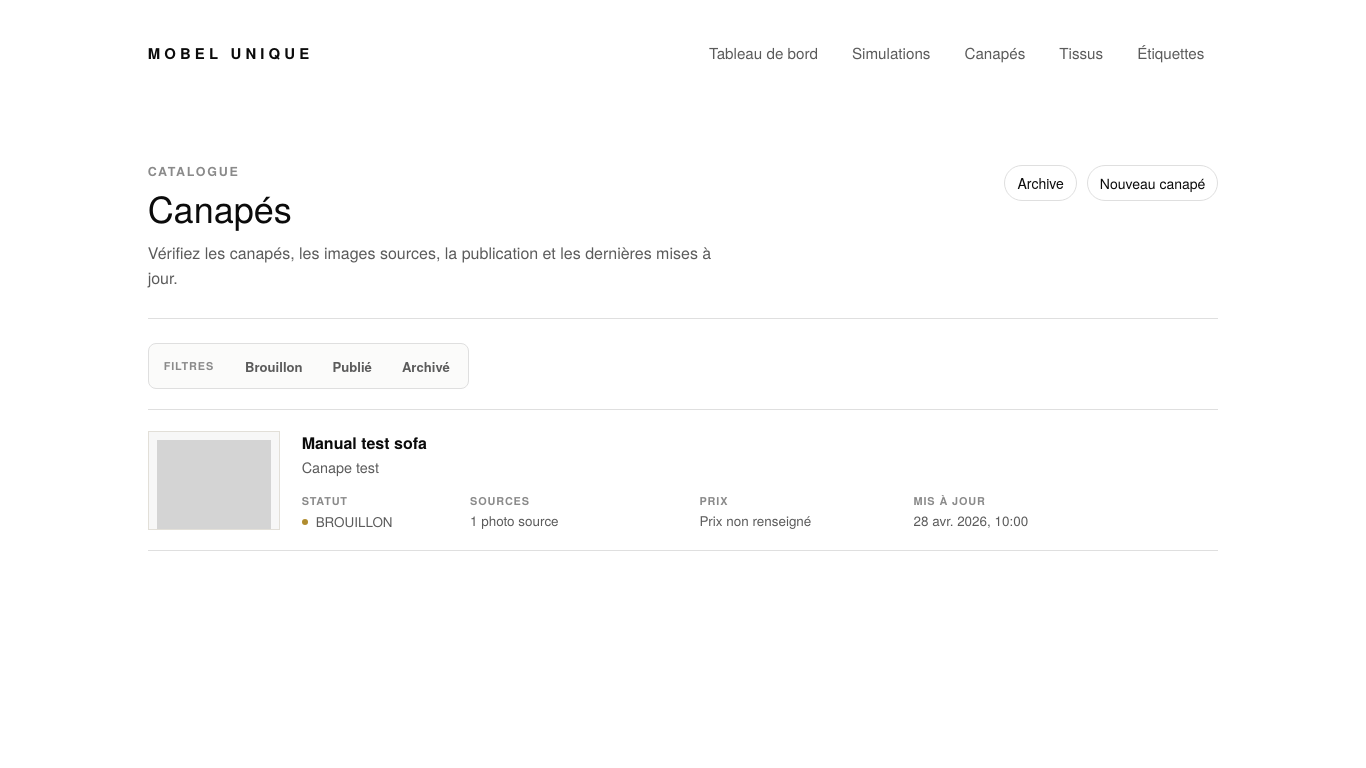
Test case: Admin catalog pages › hides archived sofas until the archive list toggle is enabled
Check: the heading "Canapés" is shown, box [148,184,292,234]
Check: the link with aria-label "Ouvrir Canape test" is shown, box [148,431,1028,531]
Click the button "Archive" at (1041, 183), box [1004,165,1077,201]
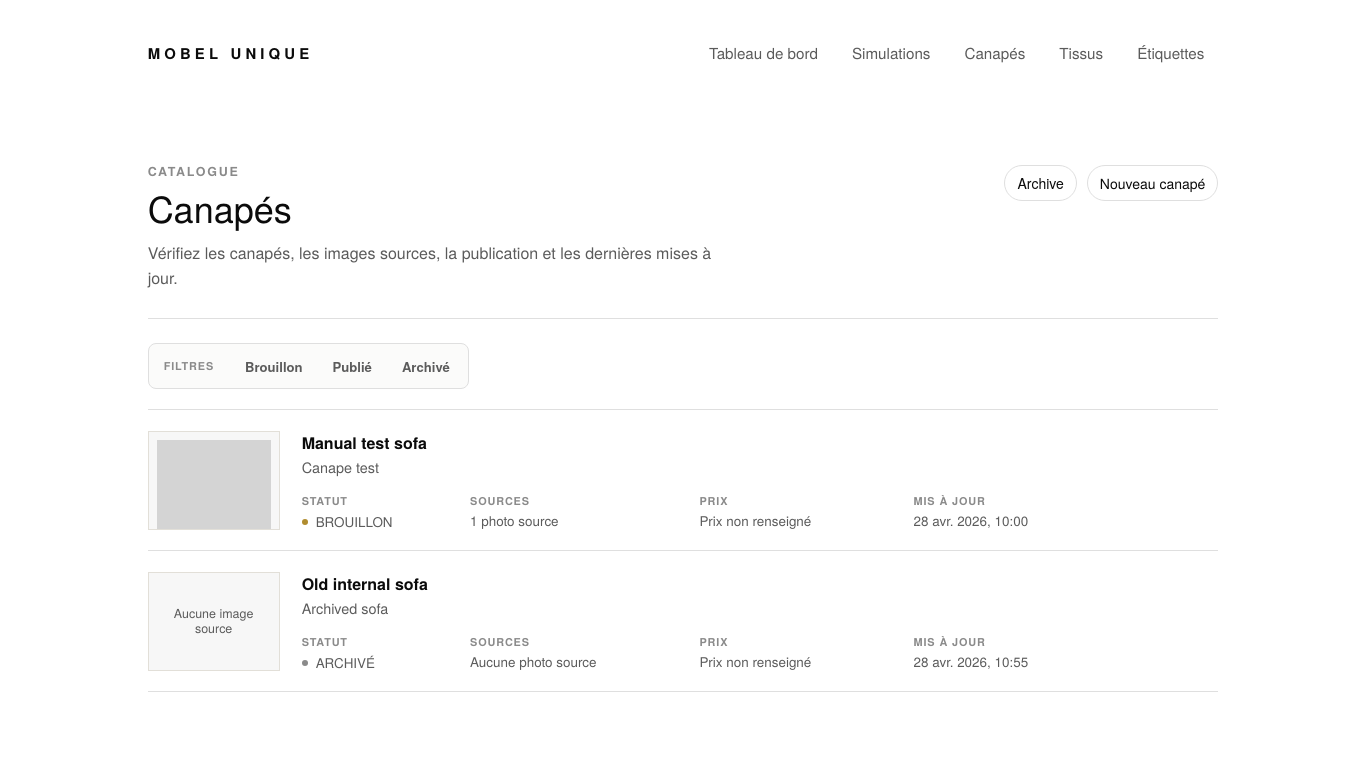
Check: the link with aria-label "Ouvrir Archived sofa" is shown, box [148,572,1028,672]
Check: the text "Archivé" is shown, box [316,653,375,672]
